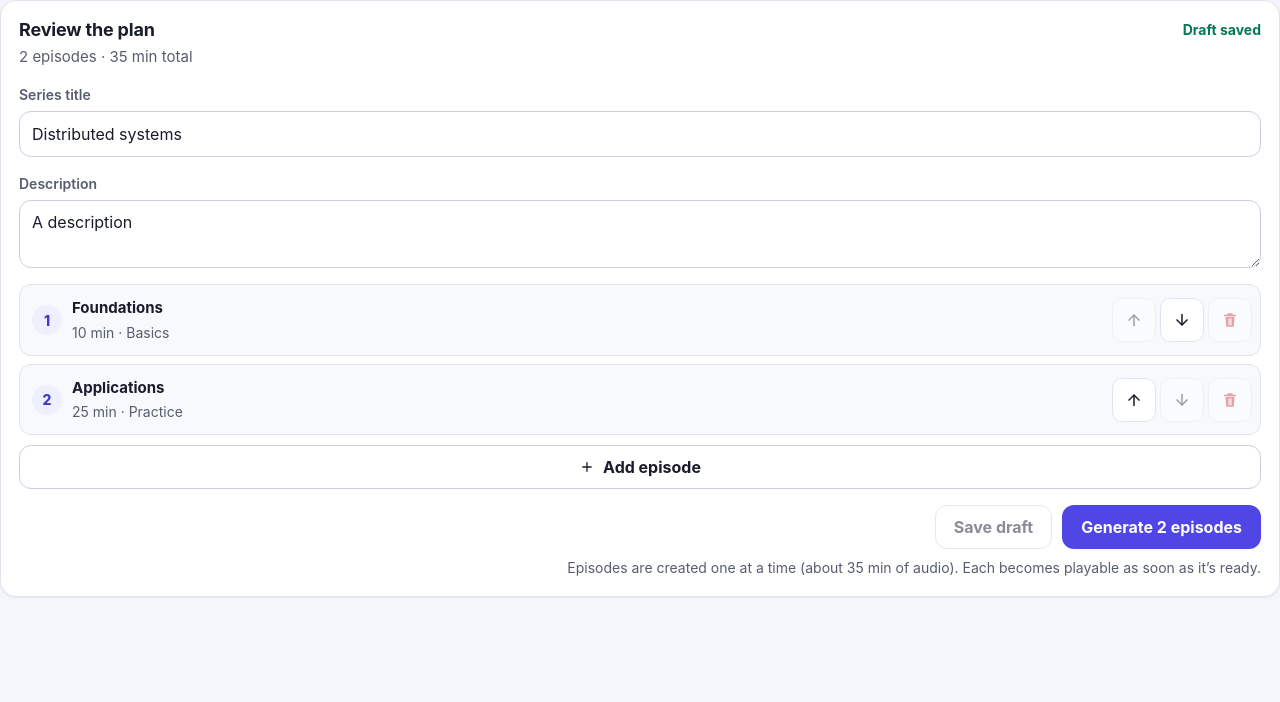
Scenario: SeriesPlanEditor › collapses episodes and expands one for editing
The width and height of the screenshot is (1280, 702).
Expected: the field labelled "What this episode covers" is not shown
Step 1. Click the button "Foundations 10 min · Basics" → point(117, 308), box [72,293,1102,347]
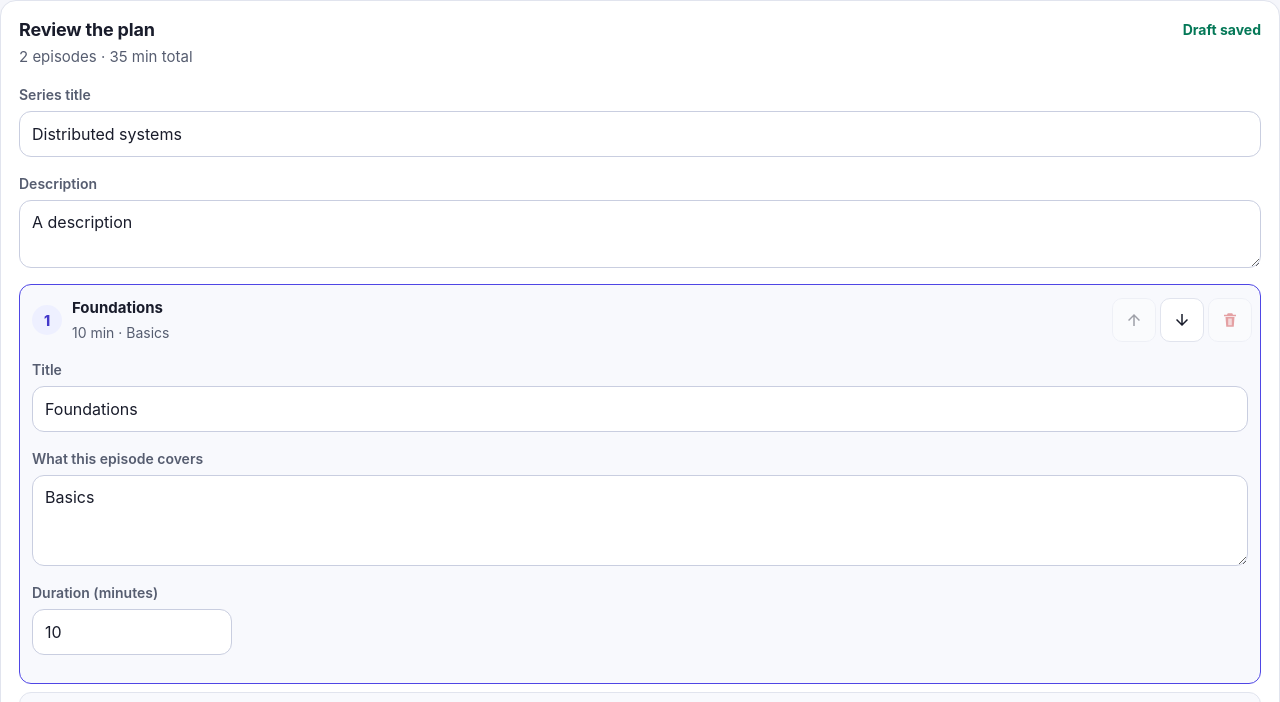
Now the text box labelled "What this episode covers" holds "Basics", box [32,475,1248,566]
